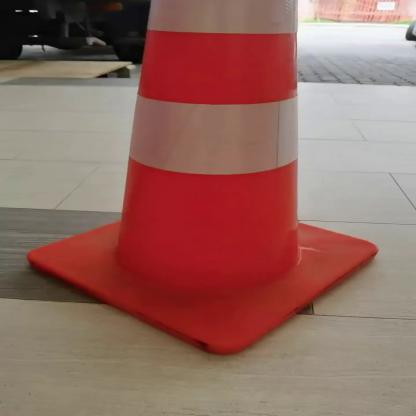cone: (19, 1, 390, 364)
